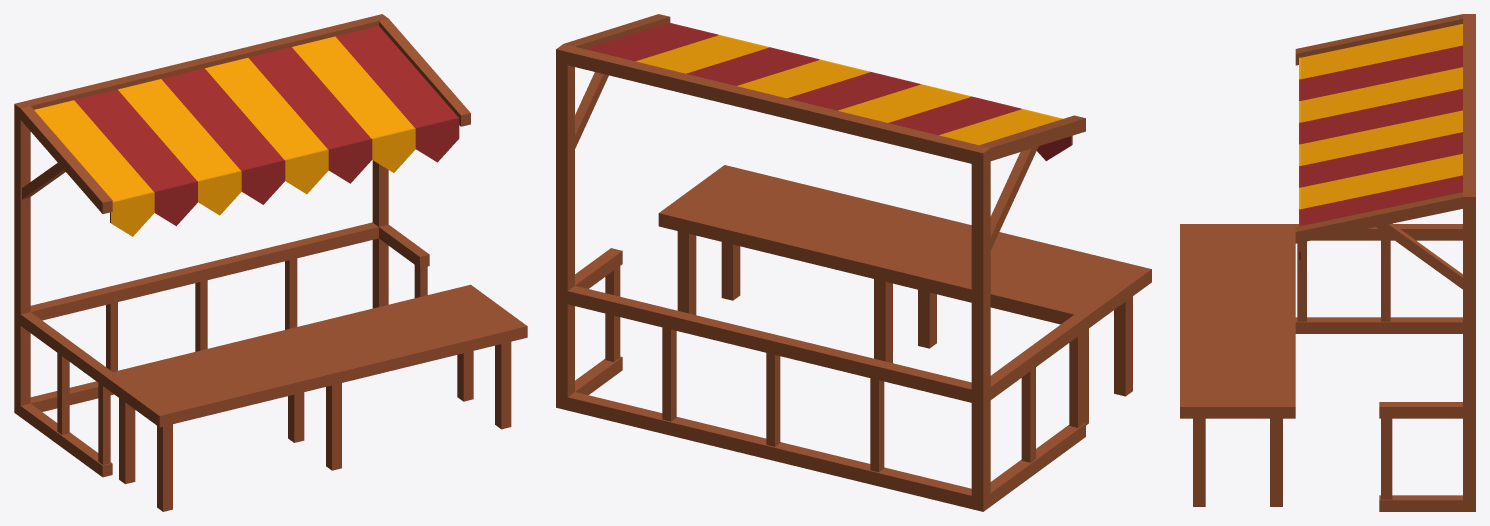
The model's file is Prop_Fantasy_Market_Stall_Empty_01.FBX.
3 renders of one model, left to right at view 1: azimuth 30°, elevation 25°; view 2: azimuth 150°, elevation 25°; view 3: azimuth 270°, elevation 25°, orthographic. The views are drawn at different scales.
Visible parts, largest first — view 1: Prop_Fantasy_Market_Stall_Empty_01; view 2: Prop_Fantasy_Market_Stall_Empty_01; view 3: Prop_Fantasy_Market_Stall_Empty_01.
Part boxes in pixels (box(x1,y1,x2,y2)): Prop_Fantasy_Market_Stall_Empty_01: box(14, 14, 527, 511); Prop_Fantasy_Market_Stall_Empty_01: box(556, 14, 1151, 511); Prop_Fantasy_Market_Stall_Empty_01: box(1180, 14, 1475, 511).
Bounding box in the file's own units: 3460 × 2775 × 2364.
